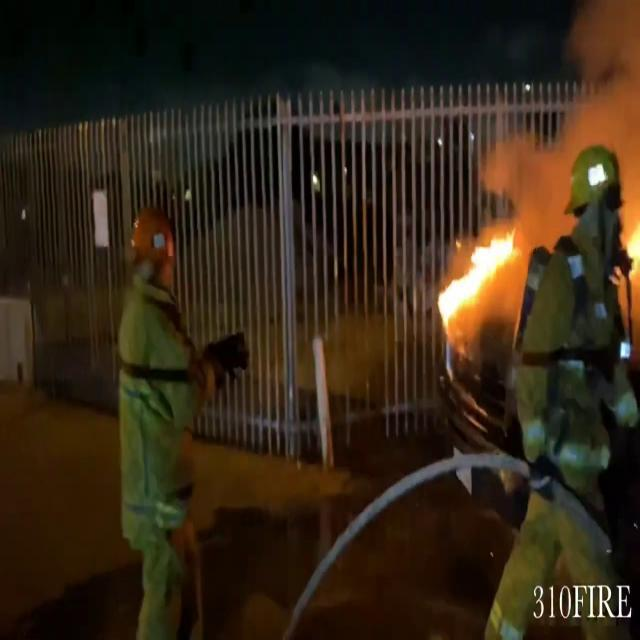Fire: (433, 212, 517, 332)
